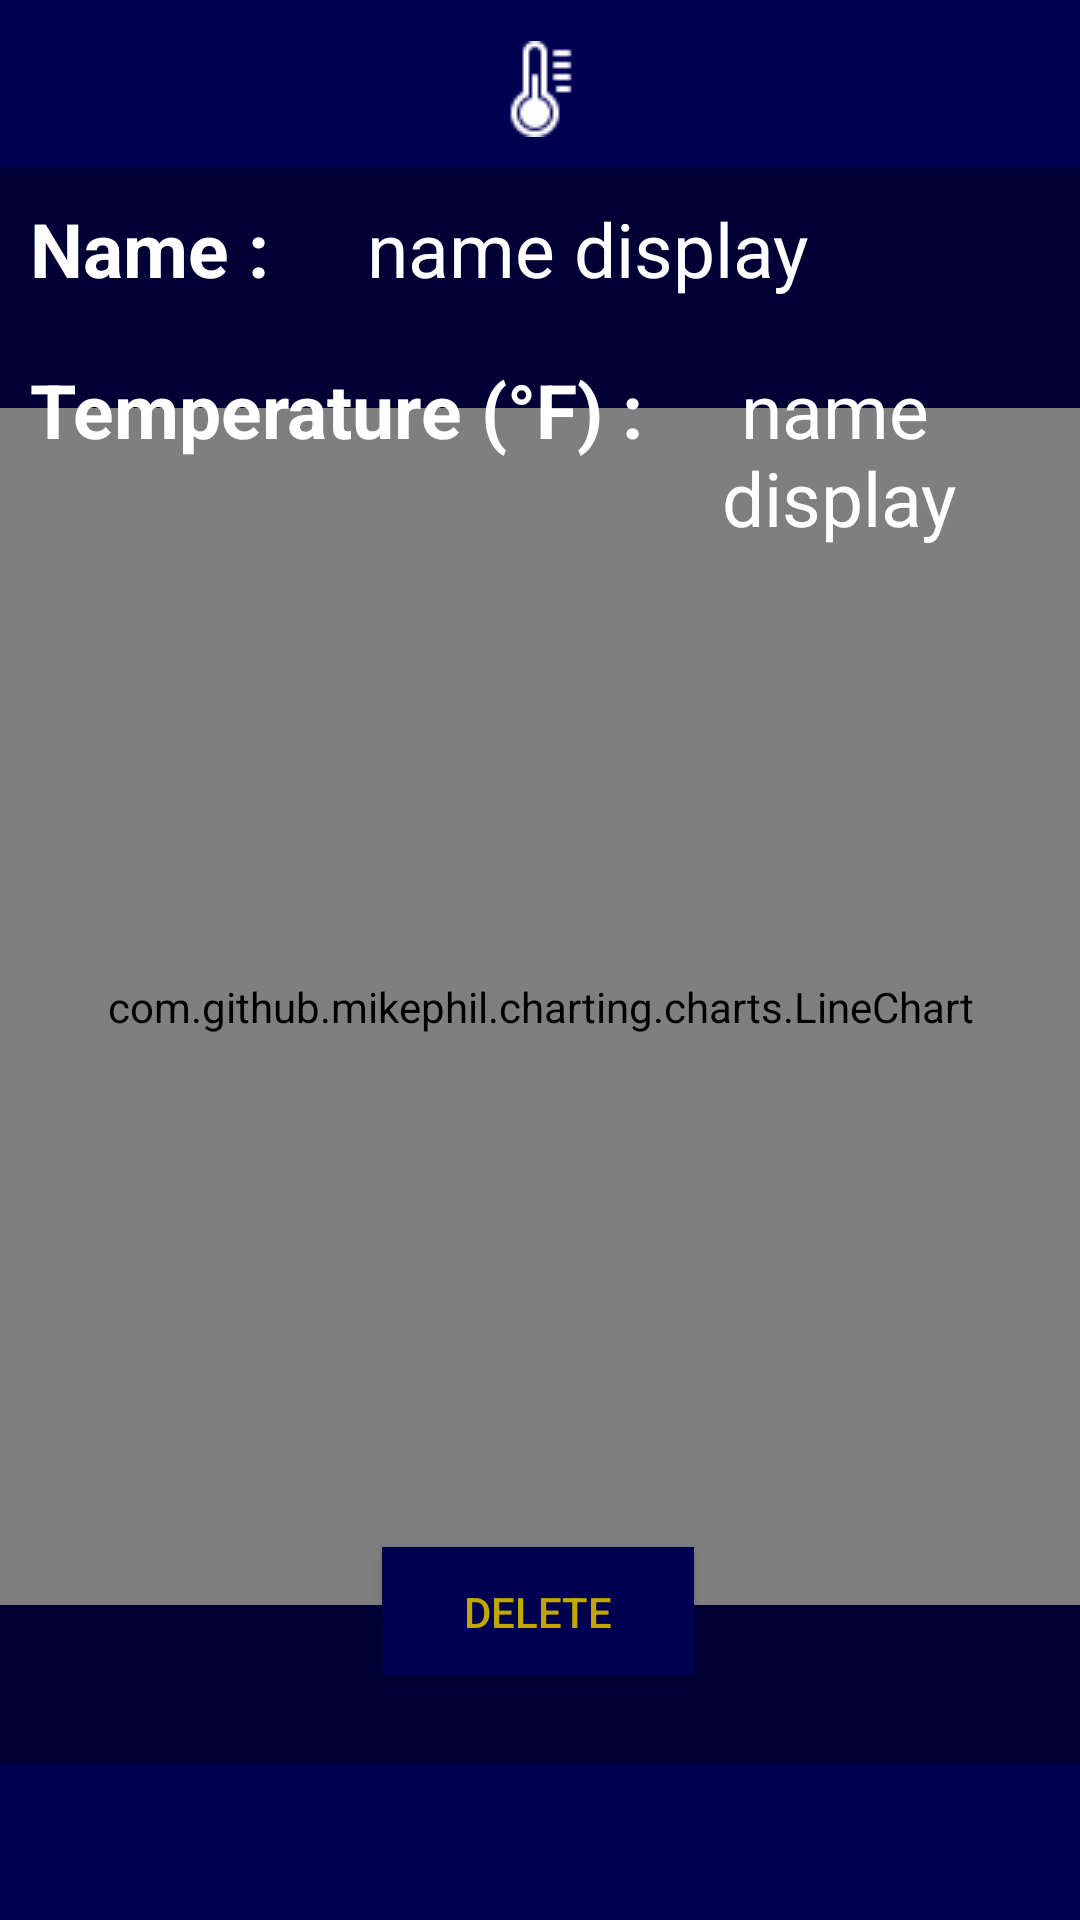

Icons on this 1080x1920 Android screen, each with the point to tap as point (x, y):
temperature: point (541, 89)
